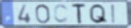4: (17, 4, 33, 25)
C: (53, 4, 70, 25)
I: (111, 3, 117, 24)
O: (35, 4, 52, 25)
Q: (88, 4, 109, 25)
T: (72, 3, 87, 25)
